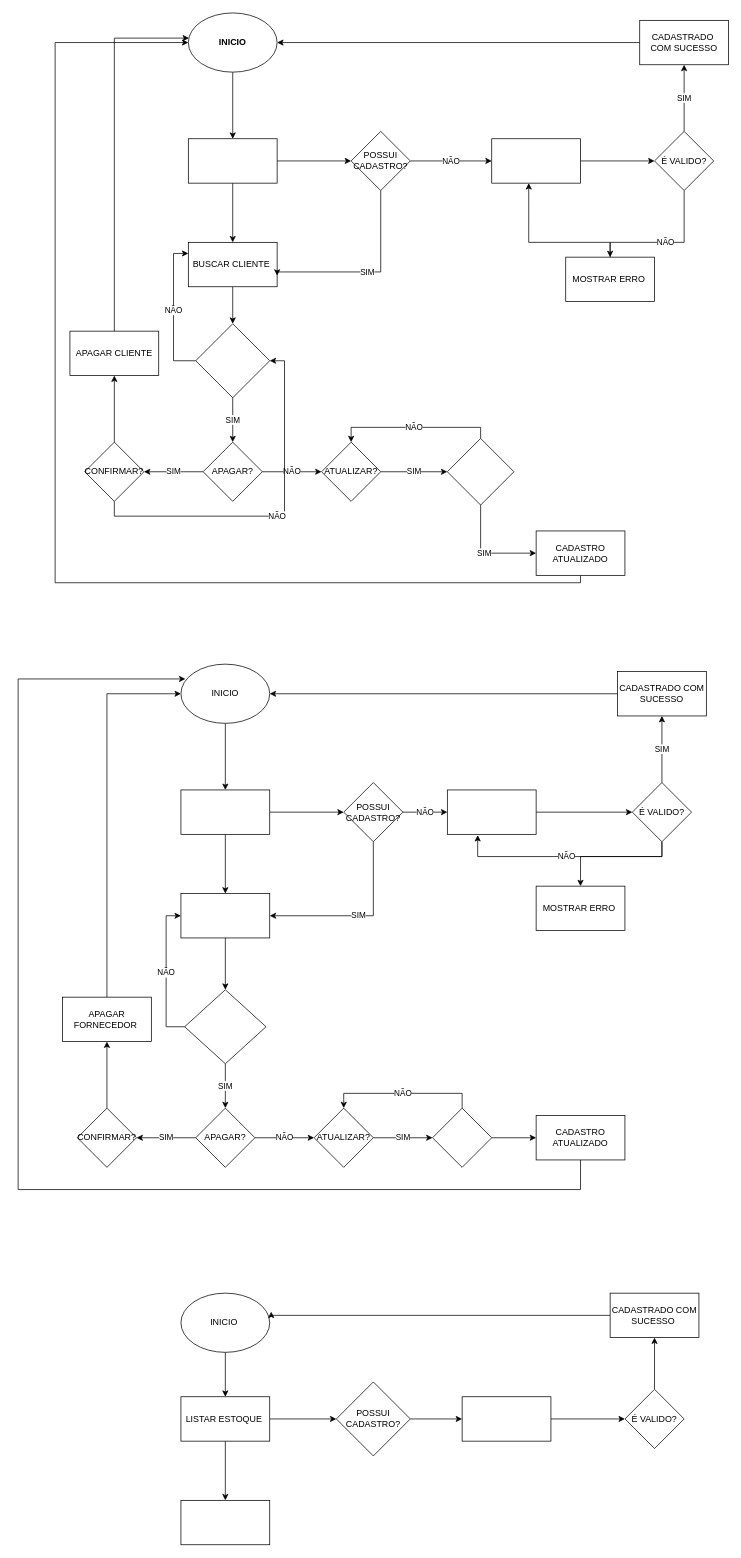
Image size: 741x1558. Some labels were removed from this diagram. Here are the shapes that lost their labels. From the top down, the centre of each, then its label:
pixel 232 160: LISTAR CLIENTE
pixel 536 160: CADASTRAR CLIENTE
pixel 232 360: CLIENTE ENCONTRADO?
pixel 480 471: OS DADOS SÃO VALIDOS?
pixel 225 811: LISTAR FORNECEDOR
pixel 491 811: CADASTRAR FORNECEDOR
pixel 225 915: BUSCAR FORNECEDOR
pixel 225 1026: FORNECEDOR ENCONTRADO?
pixel 462 1137: DADOS SÃO VALIDOS?
pixel 506 1418: CADASTRAR ESTOQUE
pixel 225 1522: BUSCAR ESTOQUE
